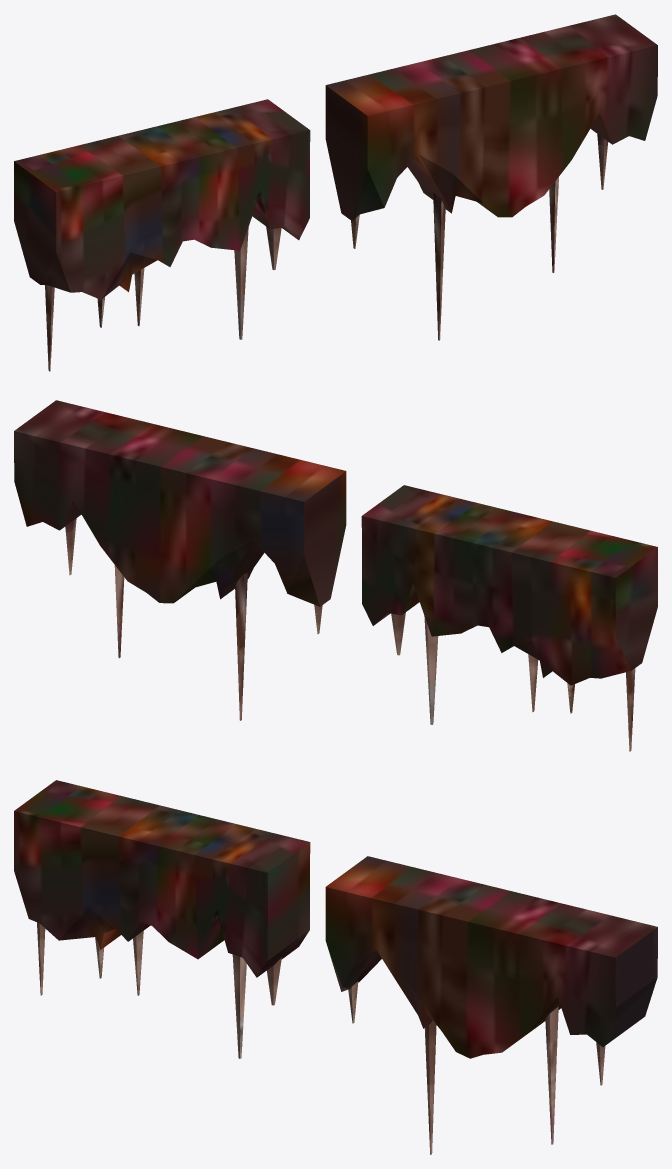
Rendered from MiniPlataformas.fbx.
3 renders of one model, top to bottom at view 1: azimuth 30°, elevation 25°; view 2: azimuth 150°, elevation 25°; view 3: azimuth 330°, elevation 25°, orthographic.
Visible parts, largest first — view 1: Cube.041, Cube.040, Cylinder.036, Cylinder.033, Cylinder.039, Cylinder.030; view 2: Cube.041, Cube.040, Cylinder.036, Cylinder.033, Cylinder.039, Cylinder.030; view 3: Cube.041, Cube.040, Cylinder.039, Cylinder.036, Cylinder.033.
Part boxes in pixels (bbox=[...]): Cube.041: bbox=[325, 14, 657, 220]; Cube.040: bbox=[14, 99, 310, 299]; Cylinder.036: bbox=[433, 192, 445, 340]; Cylinder.033: bbox=[234, 227, 248, 339]; Cylinder.039: bbox=[549, 177, 558, 272]; Cylinder.030: bbox=[45, 285, 54, 371]; Cube.041: bbox=[14, 400, 346, 606]; Cube.040: bbox=[361, 485, 657, 685]; Cylinder.036: bbox=[235, 573, 247, 720]; Cylinder.033: bbox=[424, 616, 438, 724]; Cylinder.039: bbox=[114, 565, 124, 658]; Cylinder.030: bbox=[626, 668, 635, 751]; Cube.041: bbox=[325, 856, 657, 1058]; Cube.040: bbox=[14, 780, 310, 977]; Cylinder.039: bbox=[545, 1006, 558, 1144]; Cylinder.036: bbox=[424, 1021, 436, 1154]; Cylinder.033: bbox=[232, 954, 246, 1058].
Size of the model in its own units: 9.47 by 3.88 by 1.15.
